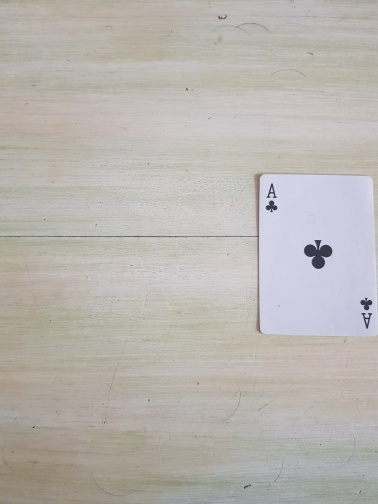ace: (258, 173, 378, 337)
